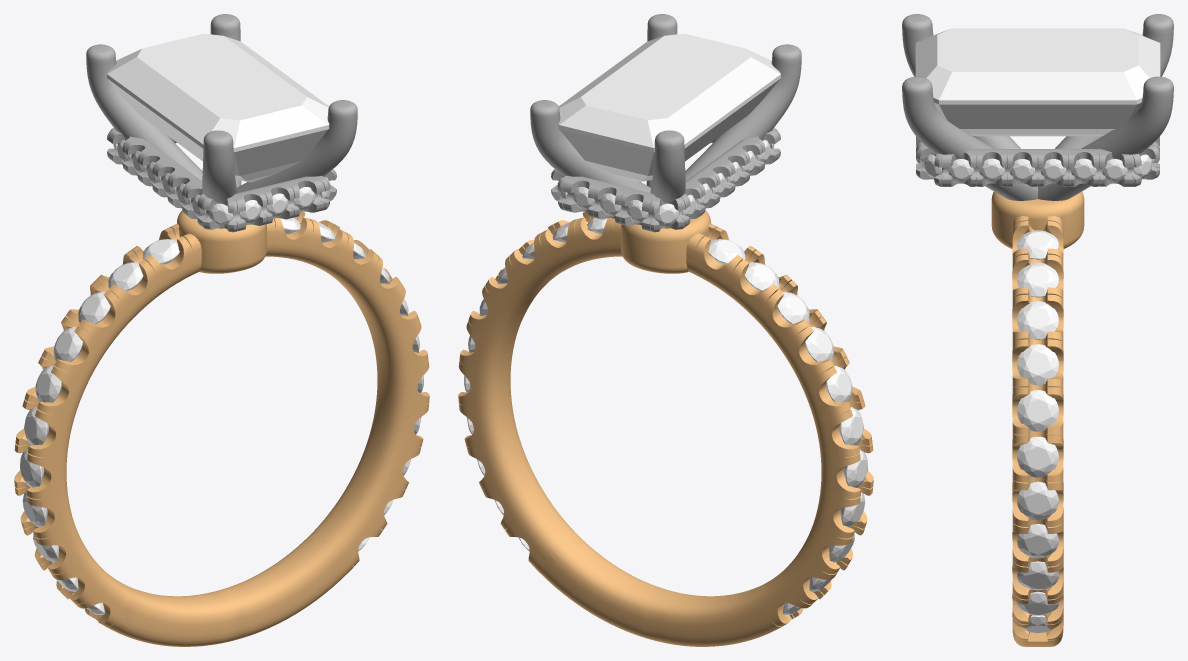
3 views of the same model, side by side, from view 1: azimuth 30°, elevation 25°; view 2: azimuth 150°, elevation 25°; view 3: azimuth 270°, elevation 25° (orthographic). The views are drawn at different scales.
Parts seen in each view (by area): view 1: object 1, 3Design CAD STL : part0 (×7), object 2; view 2: object 1, 3Design CAD STL : part0 (×7), object 2; view 3: 3Design CAD STL : part0 (×17), object 2, object 1.
Part boxes in pixels (<box>): object 1: <box>14,210,429,646</box>; 3Design CAD STL : part0 (×7): <box>24,33,329,445</box>; object 2: <box>86,14,357,232</box>; object 1: <box>458,210,873,646</box>; 3Design CAD STL : part0 (×7): <box>558,33,863,445</box>; object 2: <box>530,14,801,232</box>; 3Design CAD STL : part0 (×17): <box>915,28,1160,615</box>; object 2: <box>902,14,1173,200</box>; object 1: <box>991,191,1084,646</box>.
Bounding box in the file's own units: 2.27 × 3.03 × 1.3.
